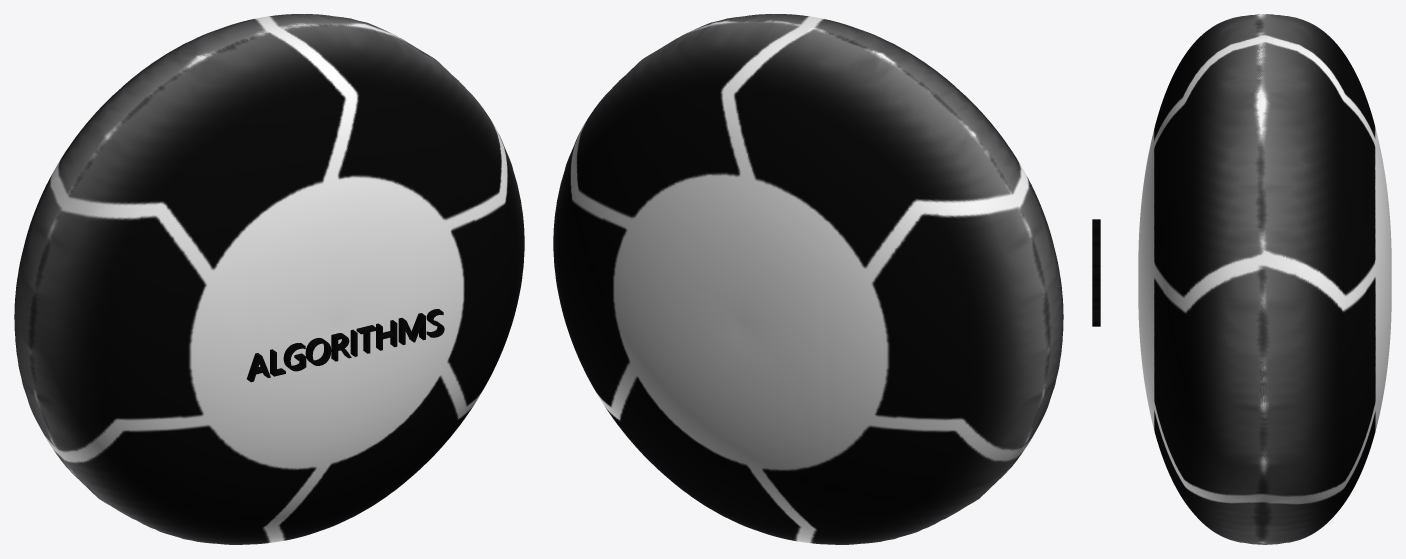
Rendered from algortima.glb.
3 renders of one model, left to right at view 1: azimuth 30°, elevation 25°; view 2: azimuth 150°, elevation 25°; view 3: azimuth 270°, elevation 25°, orthographic. The views are drawn at different scales.
Parts seen in each view (by area): view 1: Object_5, node_id42_3; view 2: Object_5; view 3: Object_5, node_id42_3.
Boxes of the visible parts, x1,y1,x2,y2 form: Object_5: (14,14,524,544); node_id42_3: (247,309,444,382); Object_5: (553,14,1063,544); Object_5: (1138,14,1391,544); node_id42_3: (1092,219,1100,326).
Bounding box in the file's own units: 0.5834 × 0.5823 × 0.3279.
2 materials, 2 textured.
